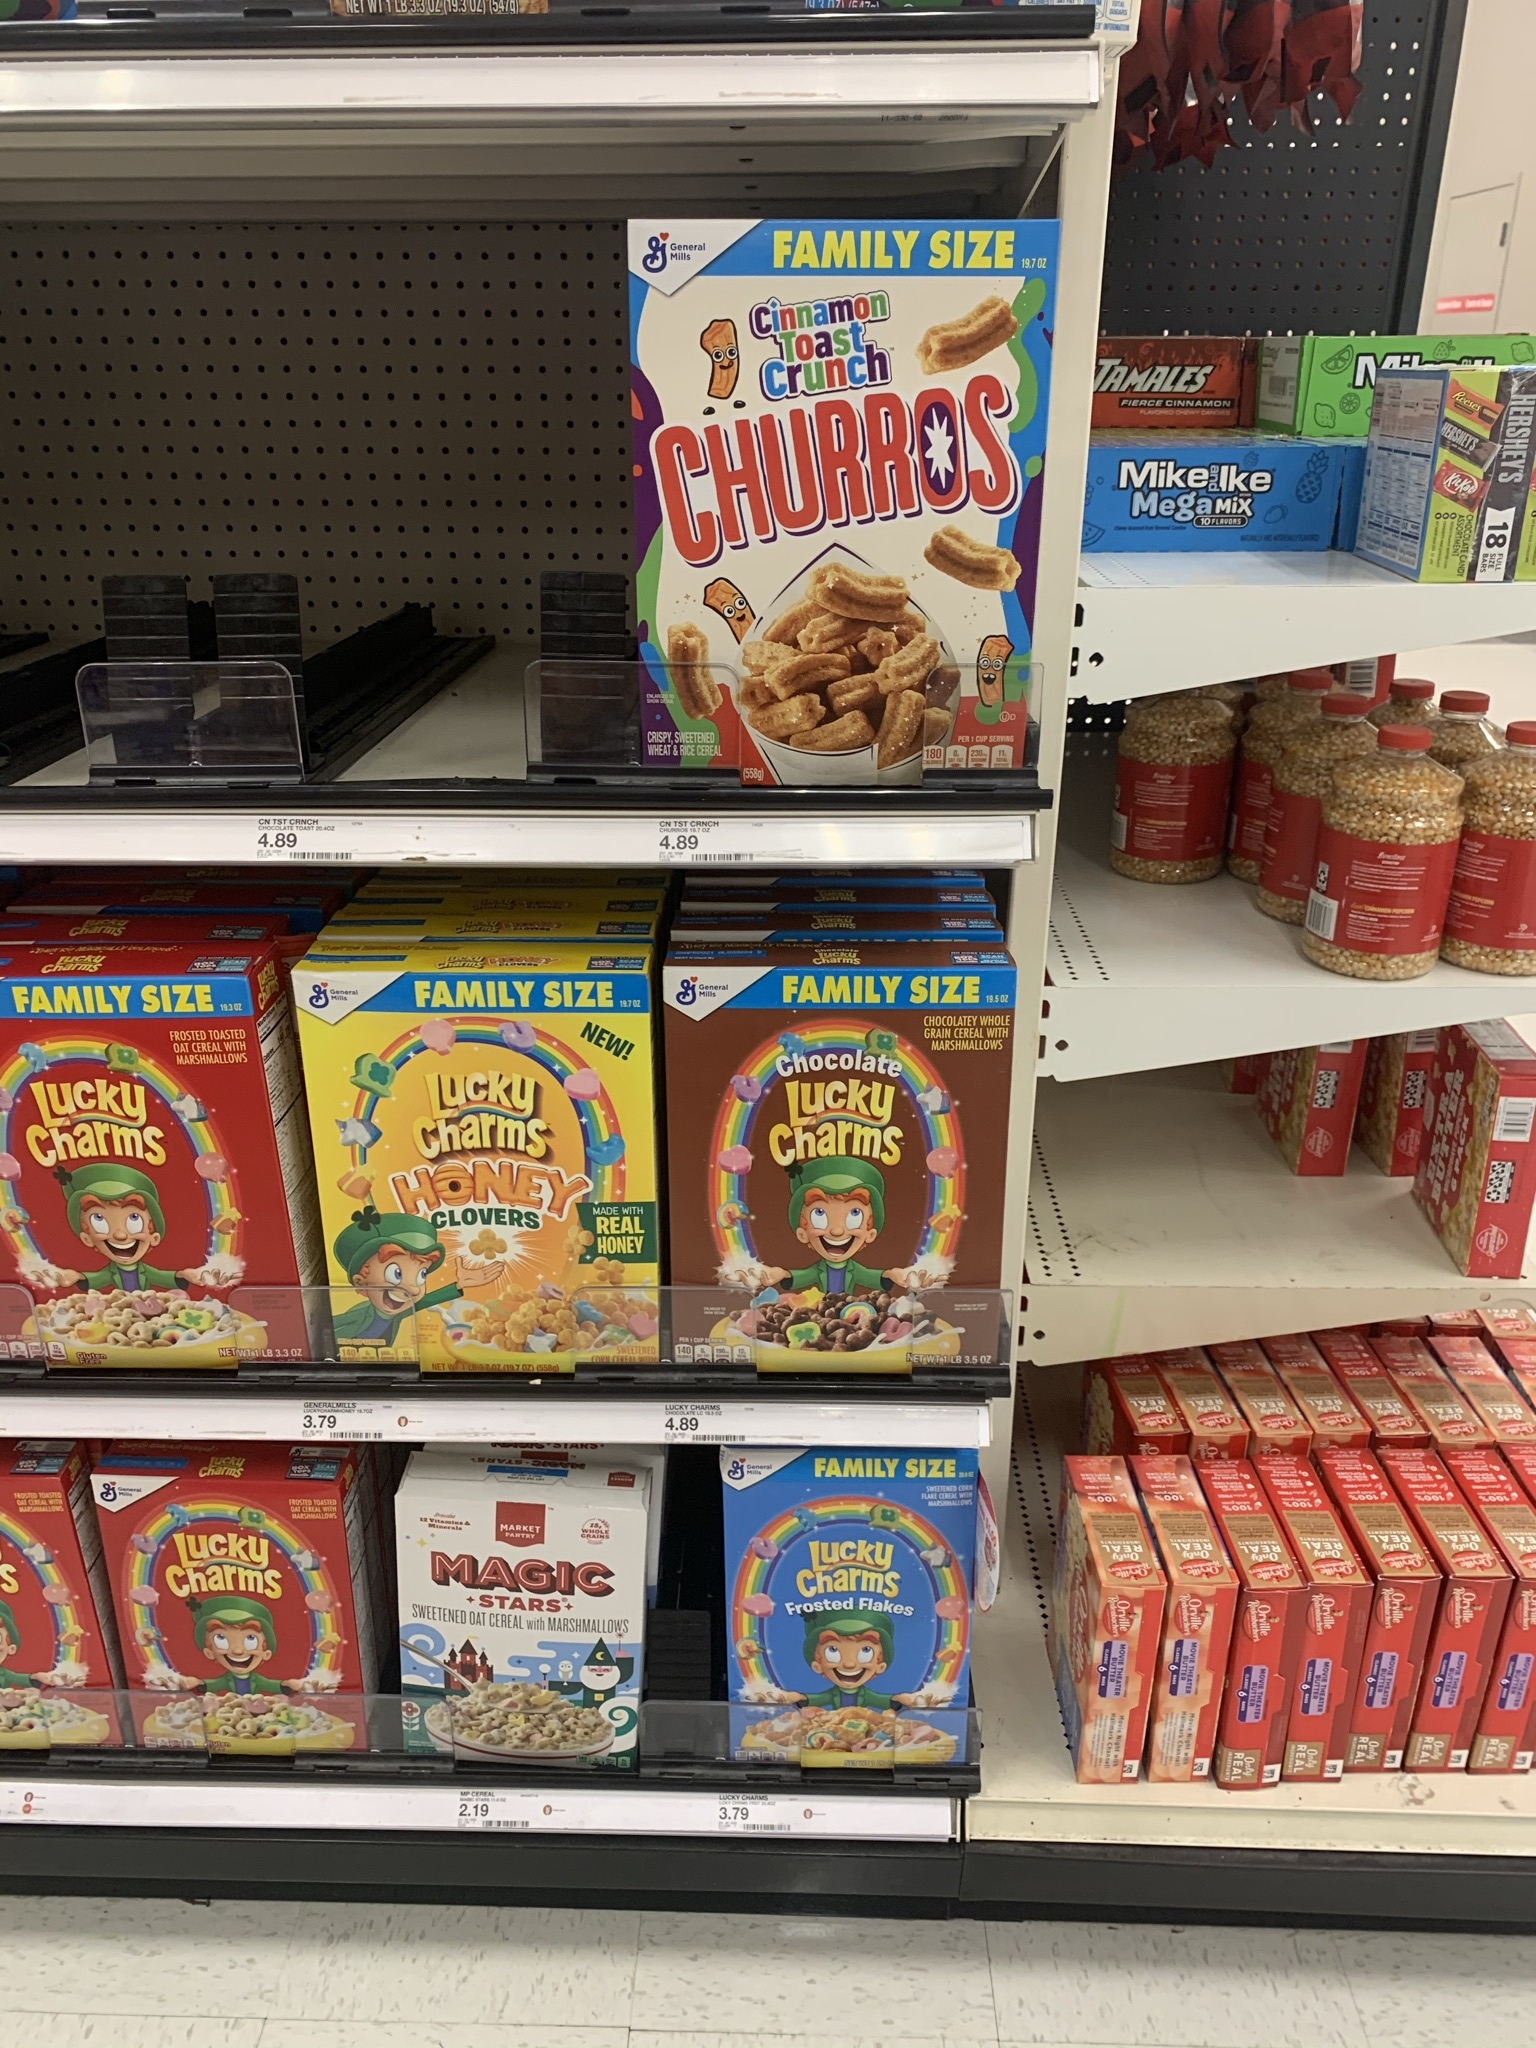Cereal: (623, 211, 1050, 777), (665, 958, 1016, 1395), (298, 955, 657, 1369), (2, 976, 287, 1380), (705, 1442, 981, 1777), (79, 1451, 365, 1763), (381, 1476, 653, 1771)
